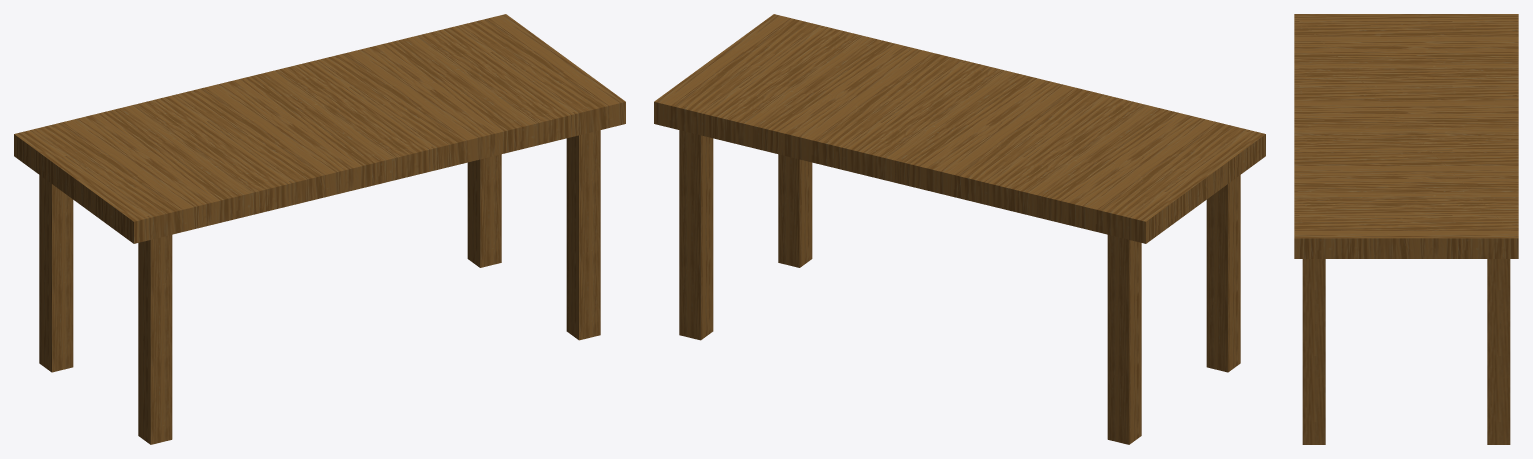
Rendered from Table.fbx.
3 renders of one model, left to right at view 1: azimuth 30°, elevation 25°; view 2: azimuth 150°, elevation 25°; view 3: azimuth 270°, elevation 25°, orthographic. The views are drawn at different scales.
Visible parts, largest first — view 1: pCube16; view 2: pCube16; view 3: pCube16.
Part boxes in pixels (box(x1,y1,x2,y2)): pCube16: box(14, 14, 625, 444); pCube16: box(654, 14, 1265, 444); pCube16: box(1294, 14, 1518, 444).
Bounding box in the file's own units: 22.97 × 10.33 × 9.7.
